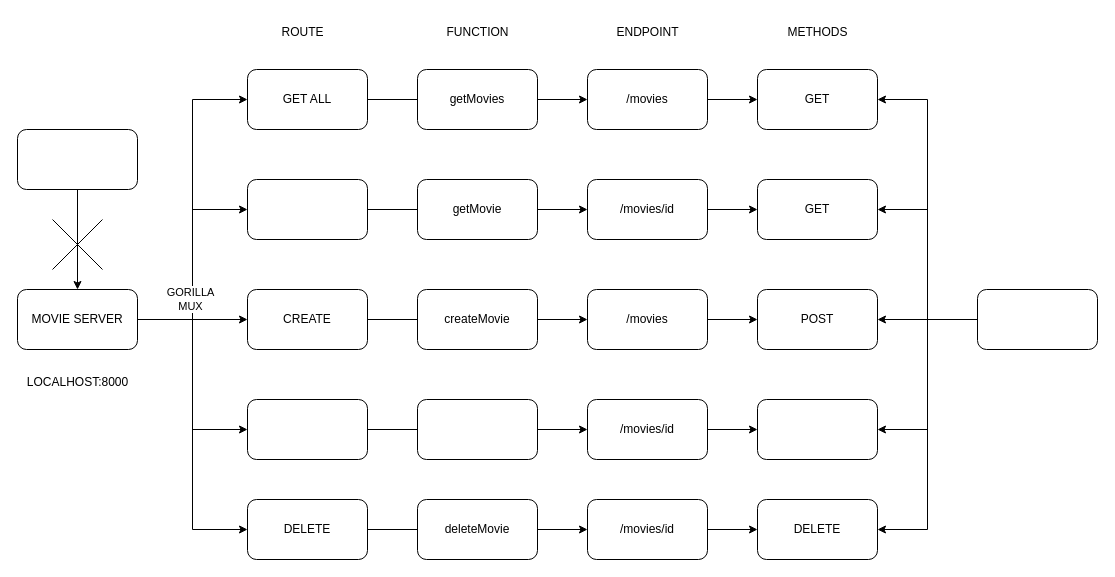
This 1115x577 diagram has some shape labels left out. The centre of each missing label's shape, as x and y in pixels:
"DATABSE" belongs at (77,159).
"GET BY ID" belongs at (307,209).
"POSTMAN" belongs at (1037,319).
"PUT" belongs at (817,429).
"UPDATE" belongs at (307,429).
"updateMovie" belongs at (477,429).
